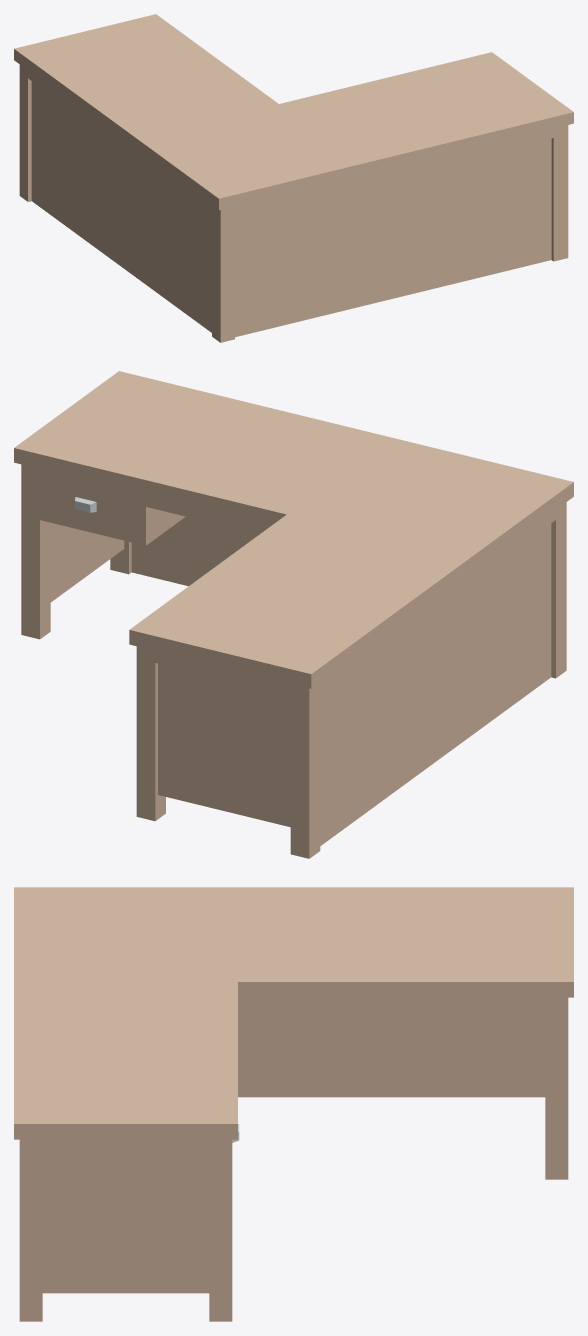
The model's file is desk_corner.glb.
3 views of the same model, one above another, from view 1: azimuth 30°, elevation 25°; view 2: azimuth 150°, elevation 25°; view 3: azimuth 270°, elevation 25° (orthographic). The views are drawn at different scales.
Visible parts, largest first — view 1: deskCorner(Clone); view 2: deskCorner(Clone), drawer; view 3: deskCorner(Clone).
Boxes of the visible parts, bbox=[...] form: deskCorner(Clone): bbox=[14, 14, 573, 342]; deskCorner(Clone): bbox=[14, 371, 573, 858]; drawer: bbox=[40, 481, 131, 527]; deskCorner(Clone): bbox=[14, 887, 573, 1321].
Bounding box in the file's own units: 2.05 × 0.8073 × 2.05.
